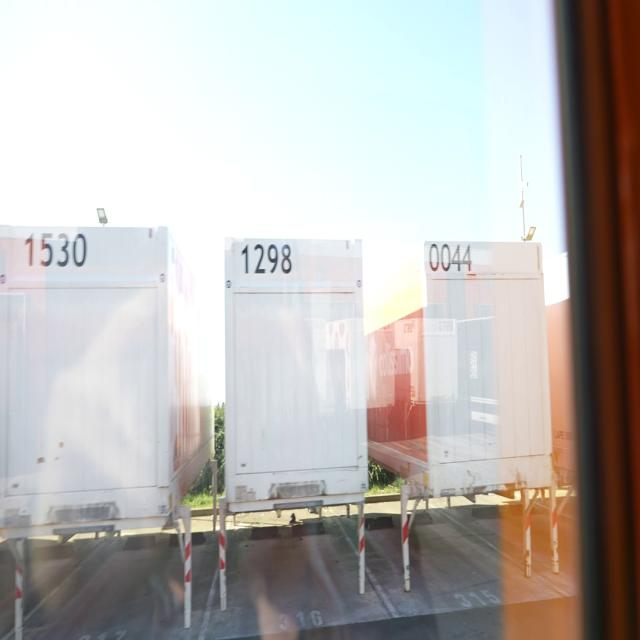Code: (19, 223, 92, 277), (238, 236, 298, 283), (426, 238, 476, 282)
